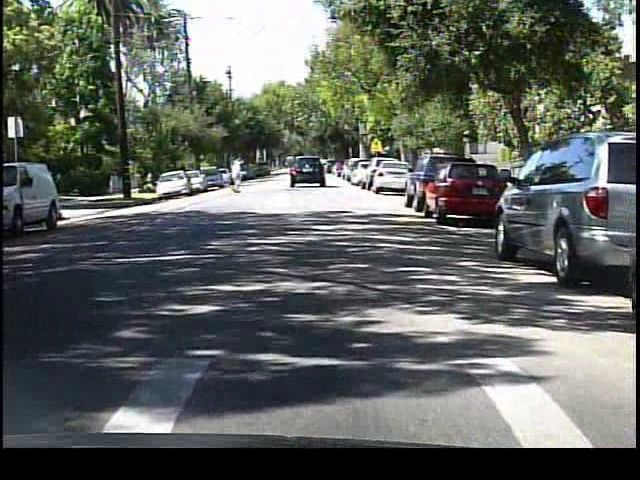person: (227, 153, 249, 196)
